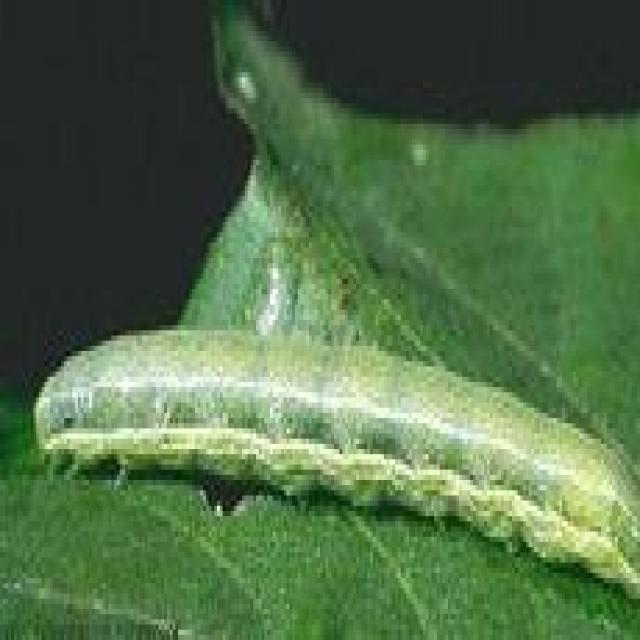BeetArmyWorm-Larva-: (33, 301, 626, 589)
